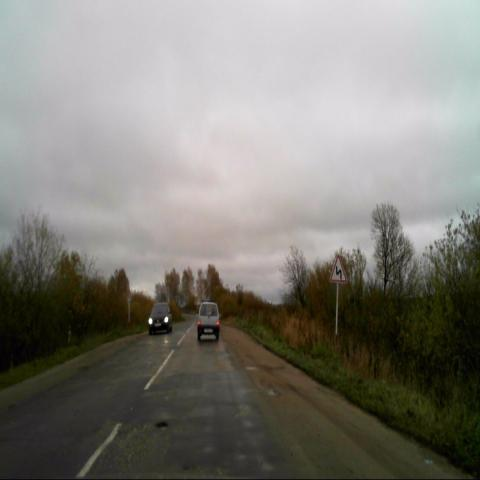1_12_2: (330, 253, 348, 283)
